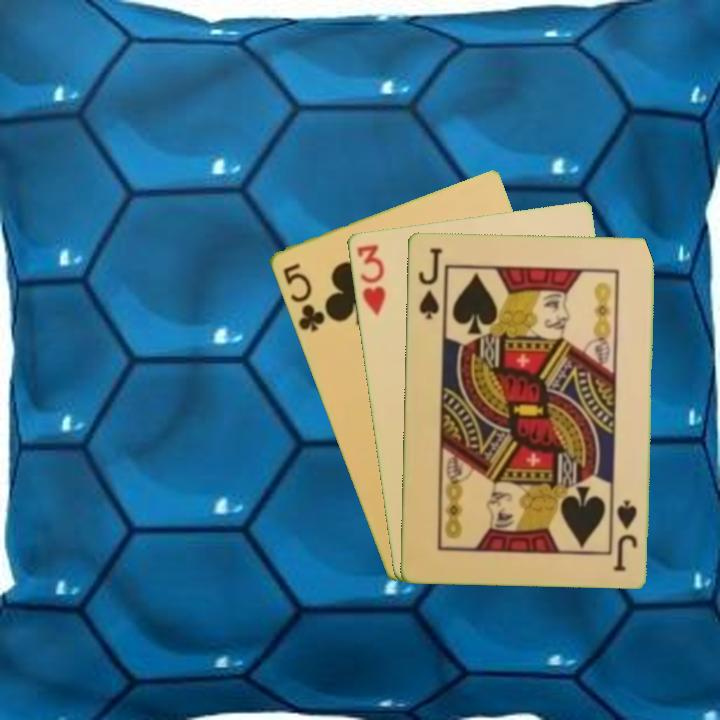3h: (353, 240, 388, 318)
5c: (279, 259, 328, 335)
Js: (414, 244, 445, 322), (610, 496, 639, 574)
